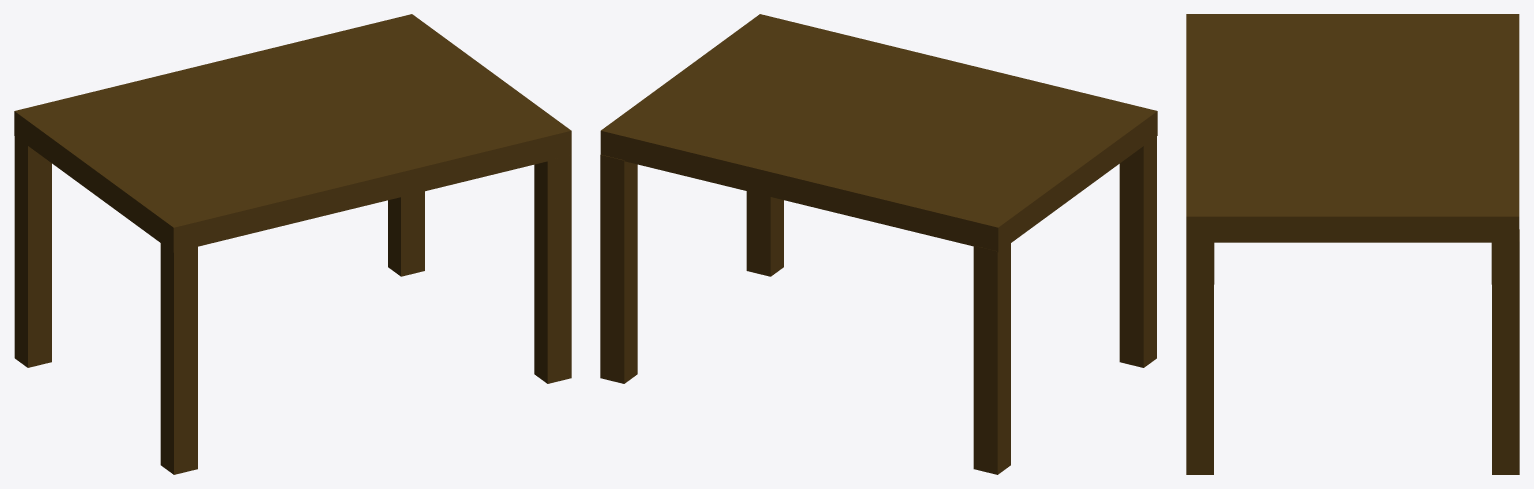
File: tafel.glb
3 views of the same model, side by side, from view 1: azimuth 30°, elevation 25°; view 2: azimuth 150°, elevation 25°; view 3: azimuth 270°, elevation 25° (orthographic). The views are drawn at different scales.
Visible parts, largest first — view 1: Cube, Cube.004, Cube.001, Cube.003, Cube.002; view 2: Cube, Cube.003, Cube.002, Cube.004, Cube.001; view 3: Cube, Cube.002, Cube.001.
Boxes of the visible parts, x1=… form: Cube: x1=14, y1=14, x2=571, y2=252; Cube.004: x1=160, y1=243, x2=197, y2=474; Cube.001: x1=534, y1=154, x2=571, y2=383; Cube.003: x1=14, y1=136, x2=51, y2=367; Cube.002: x1=388, y1=191, x2=424, y2=276; Cube: x1=600, y1=14, x2=1157, y2=252; Cube.003: x1=973, y1=243, x2=1010, y2=474; Cube.002: x1=600, y1=154, x2=637, y2=383; Cube.004: x1=1119, y1=136, x2=1156, y2=367; Cube.001: x1=746, y1=191, x2=783, y2=276; Cube: x1=1186, y1=14, x2=1519, y2=242; Cube.002: x1=1492, y1=229, x2=1519, y2=474; Cube.001: x1=1186, y1=241, x2=1213, y2=474.
Bounding box in the file's own units: 2.03 × 1.21 × 1.41.
